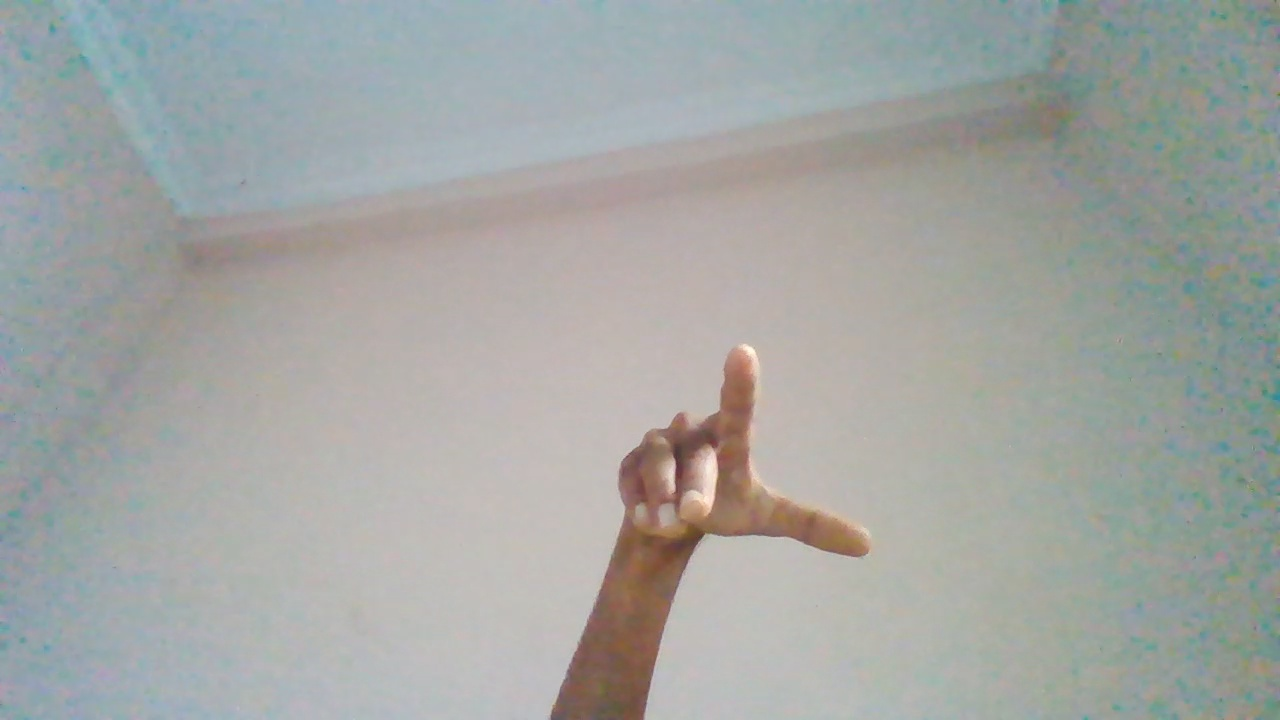ke: (612, 344, 874, 701)
